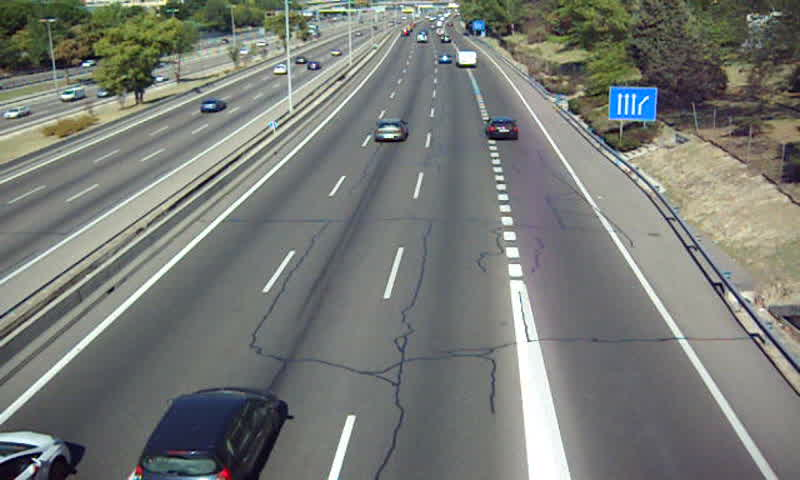car: (135, 388, 283, 480), (373, 117, 408, 142), (484, 118, 520, 140), (436, 52, 454, 64)
van: (454, 51, 478, 68)
